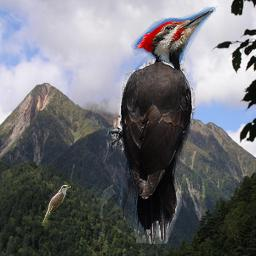Cuckoo: (41, 185, 71, 226)
Woodpecker: (98, 6, 222, 244)
